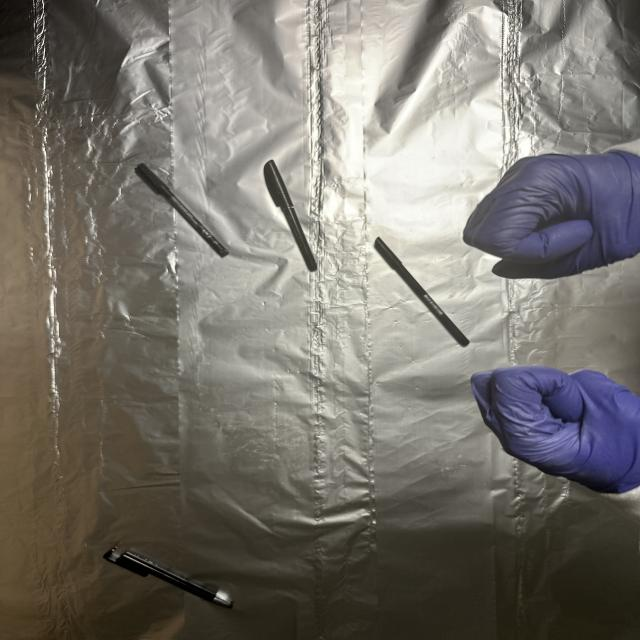gloves_contaminated: (463, 150, 640, 279), (471, 366, 640, 494)
